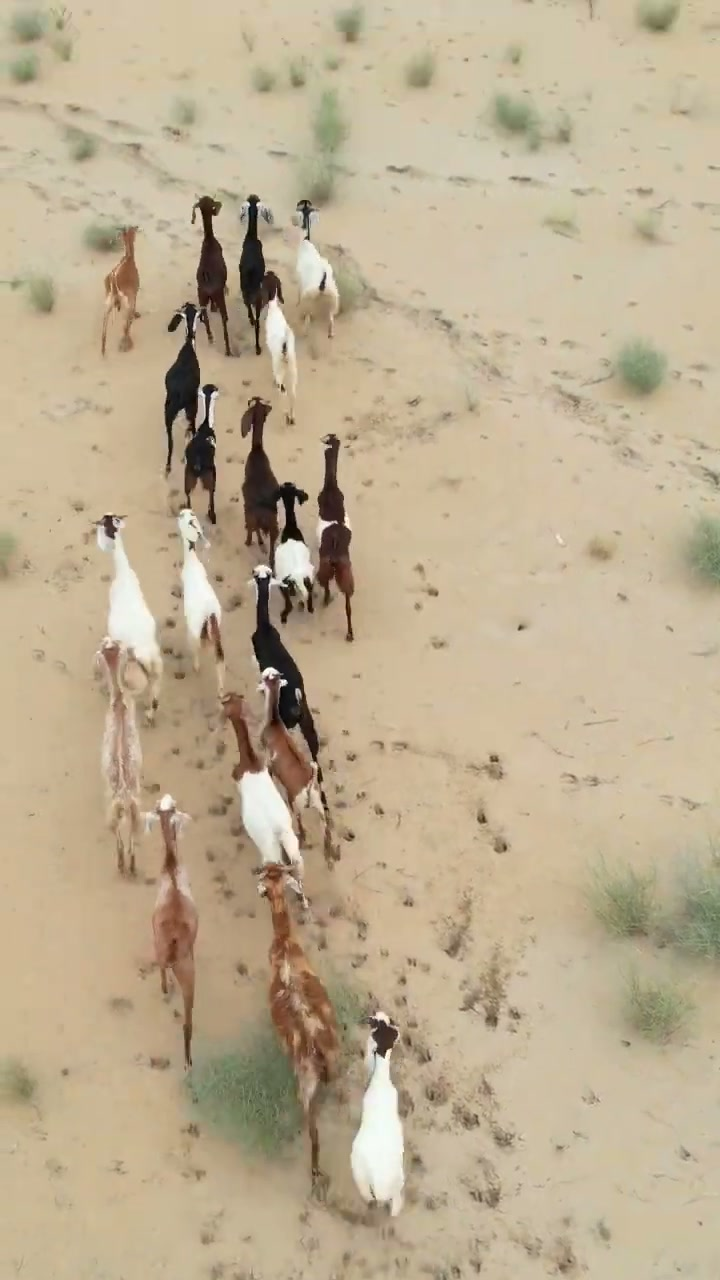animal_footprint: (309, 690, 609, 1271), (139, 689, 291, 1274)
